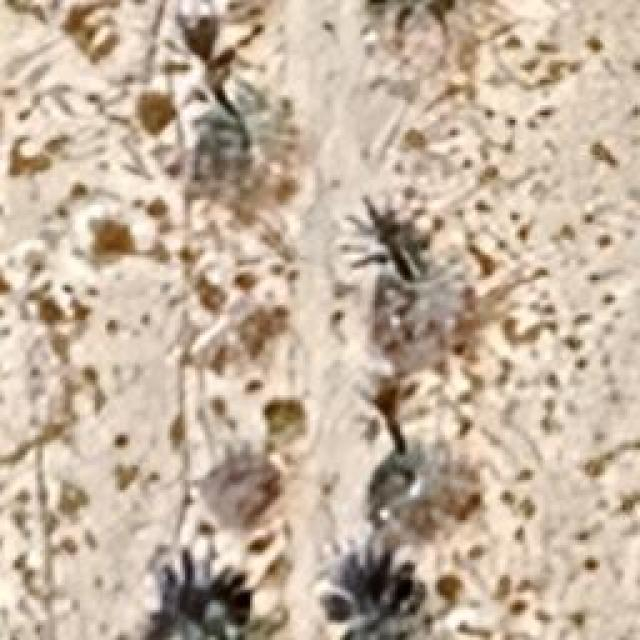PalmTree: (122, 17, 423, 94), (374, 437, 488, 575), (361, 231, 471, 351), (174, 31, 268, 112), (103, 94, 242, 148), (334, 592, 448, 638), (165, 568, 223, 638)
